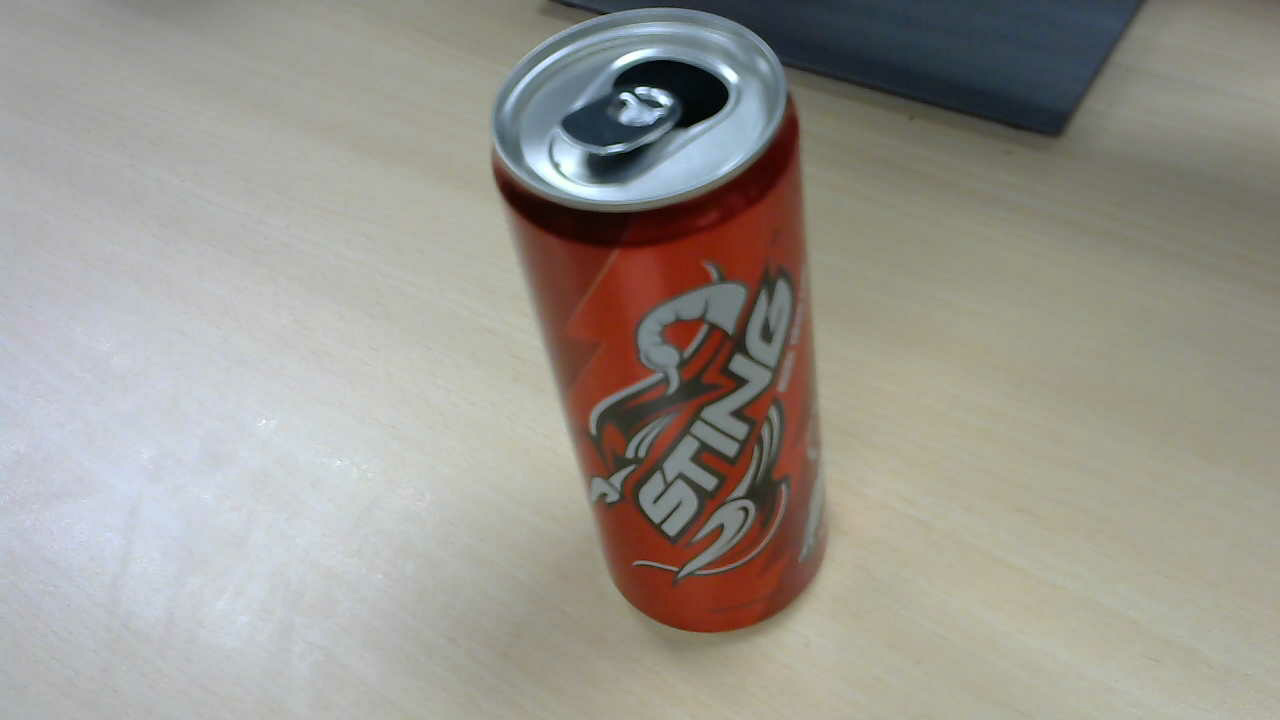Sting: (507, 14, 843, 637)
